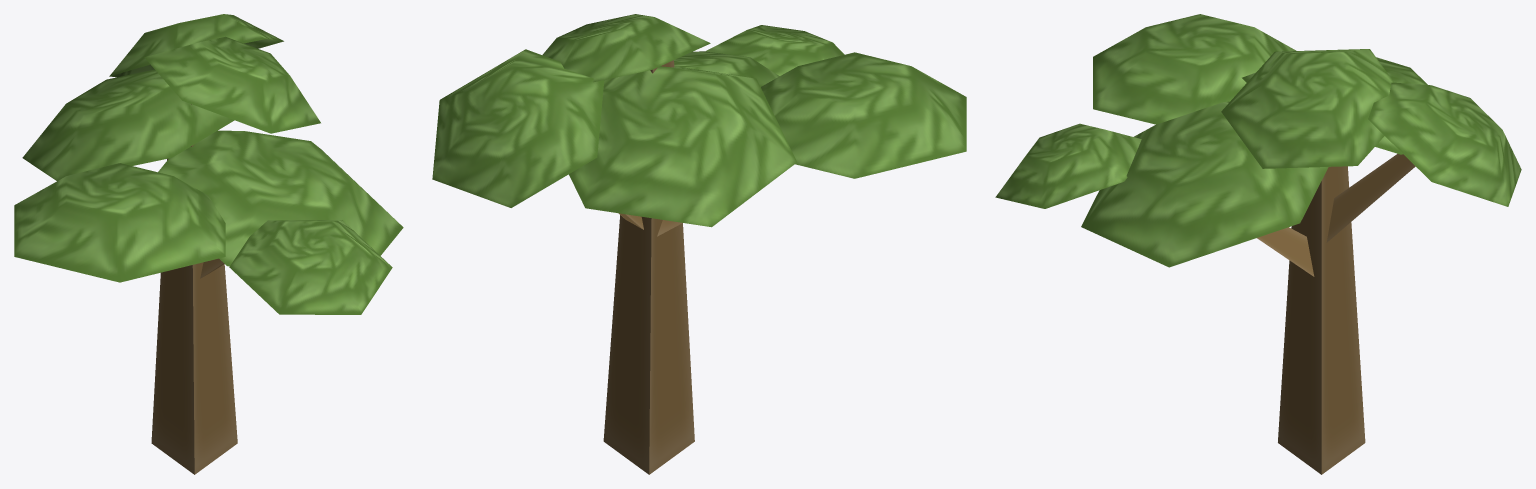
Rendered from env_Tree_Deciduous_B.FBX.
3 views of the same model, side by side, from view 1: azimuth 30°, elevation 25°; view 2: azimuth 150°, elevation 25°; view 3: azimuth 270°, elevation 25° (orthographic). The views are drawn at different scales.
Visible parts, largest first — view 1: env_Tree_Deciduous_B; view 2: env_Tree_Deciduous_B; view 3: env_Tree_Deciduous_B.
Part boxes in pixels (box(x1,y1,x2,y2)): env_Tree_Deciduous_B: box(14, 14, 403, 474); env_Tree_Deciduous_B: box(432, 14, 966, 474); env_Tree_Deciduous_B: box(995, 14, 1521, 474).
Size of the model in its own units: 474 by 474 by 554.
